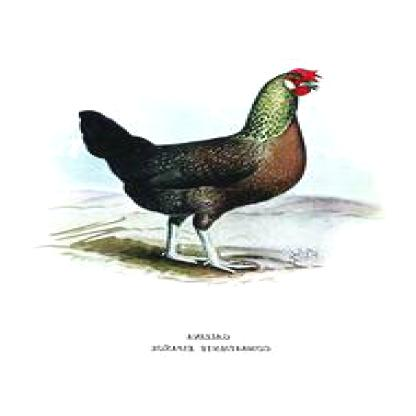chicken: (74, 65, 322, 273)
